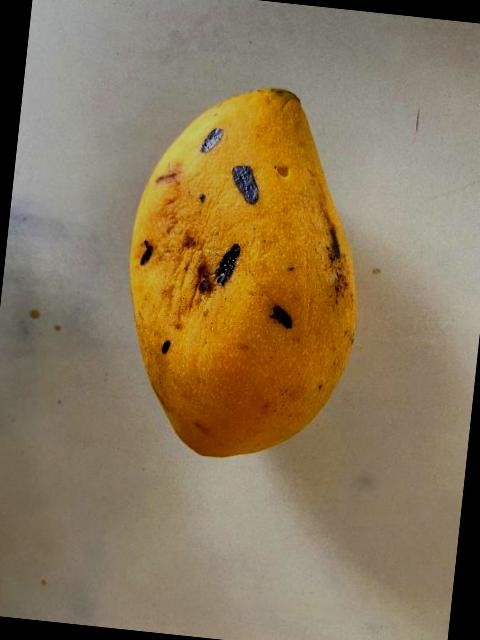Mango Overripe: (84, 38, 400, 500)
